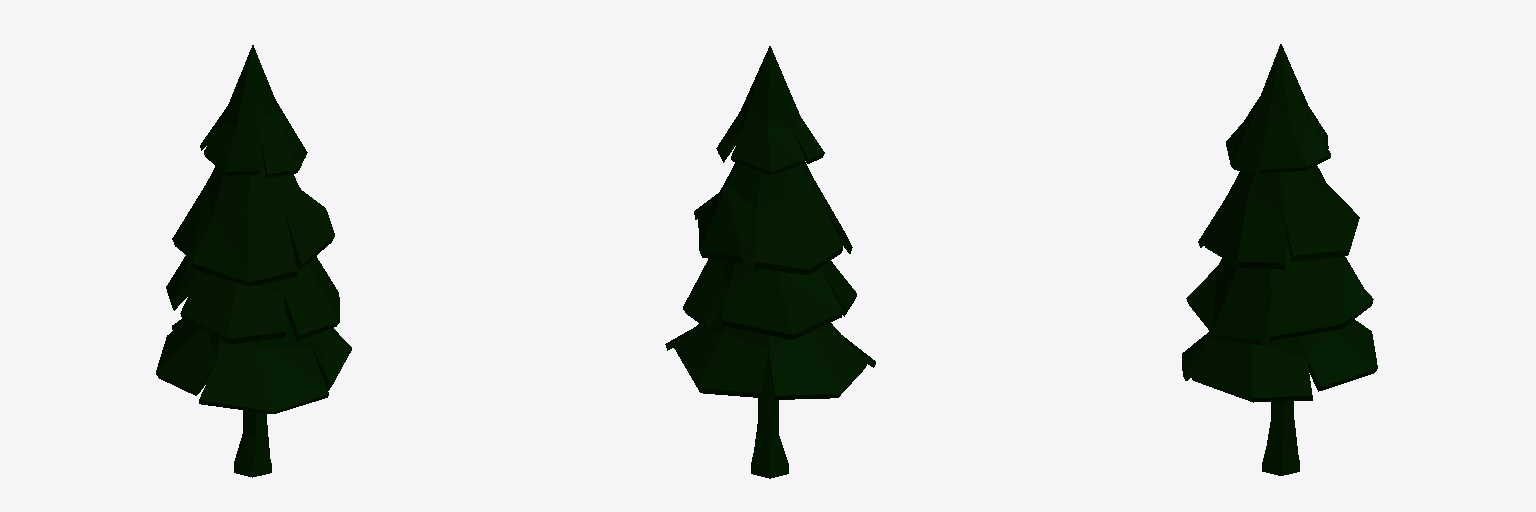
Rendered from fir_001.obj.
3 renders of one model, left to right at view 1: azimuth 30°, elevation 25°; view 2: azimuth 150°, elevation 25°; view 3: azimuth 270°, elevation 25°, orthographic.
Parts seen in each view (by area): view 1: fir_001; view 2: fir_001; view 3: fir_001.
Boxes of the visible parts, <box> form: fir_001: <box>156,45,351,477</box>; fir_001: <box>665,46,875,478</box>; fir_001: <box>1182,44,1377,475</box>.
Bounding box in the file's own units: 2.63 × 6.18 × 2.59.